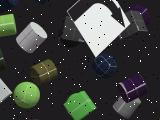Right: (67, 0, 130, 58)
